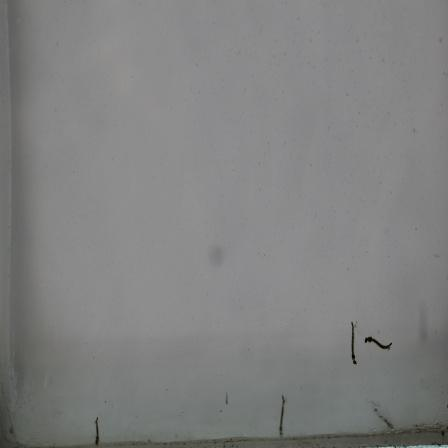Jentik-Nyamuk: (275, 392, 290, 439), (362, 333, 394, 354), (347, 317, 359, 368), (91, 415, 104, 446)
